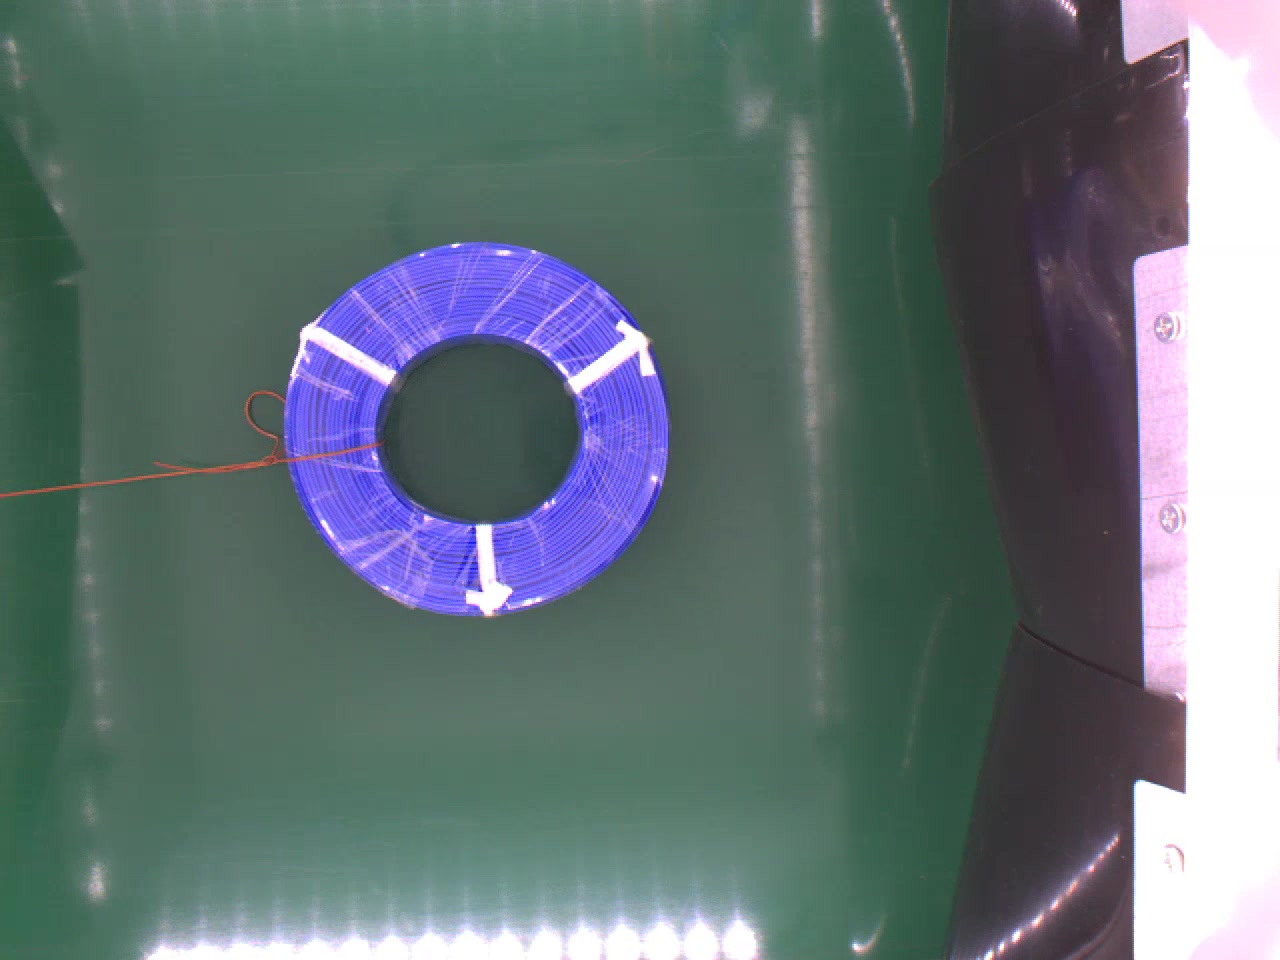blue: (283, 239, 679, 620)
